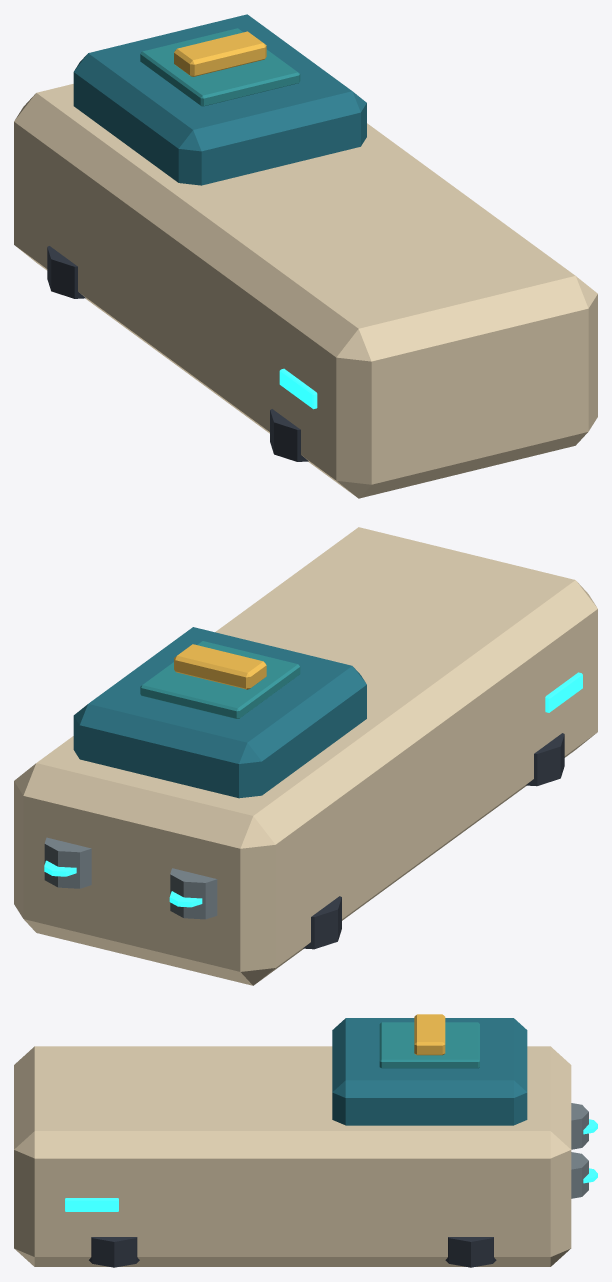
File: vehicles_038_seed11.glb
3 views of the same model, one above another, from view 1: azimuth 30°, elevation 25°; view 2: azimuth 150°, elevation 25°; view 3: azimuth 270°, elevation 25° (orthographic). The views are drawn at different scales.
Visible parts, largest first — view 1: vehicles_038_seed11; view 2: vehicles_038_seed11; view 3: vehicles_038_seed11.
Part boxes in pixels (<box>): vehicles_038_seed11: <box>14,14,597,498</box>; vehicles_038_seed11: <box>14,527,597,985</box>; vehicles_038_seed11: <box>14,1014,597,1267</box>.
Size of the model in its own units: 2.05 by 1.68 by 4.53.
